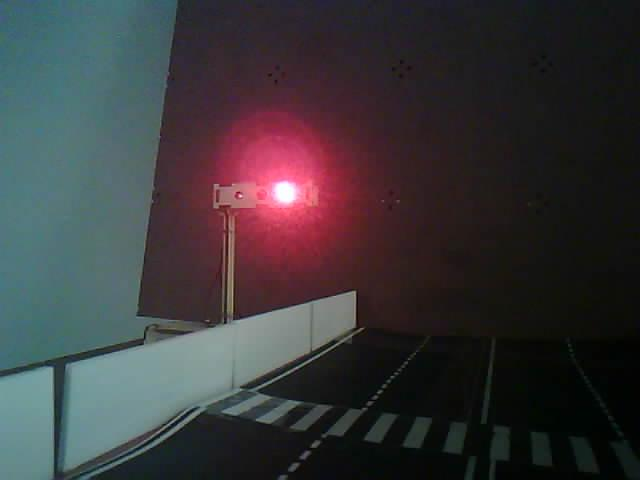crosswalk: (194, 374, 640, 480)
red: (203, 95, 361, 327)
